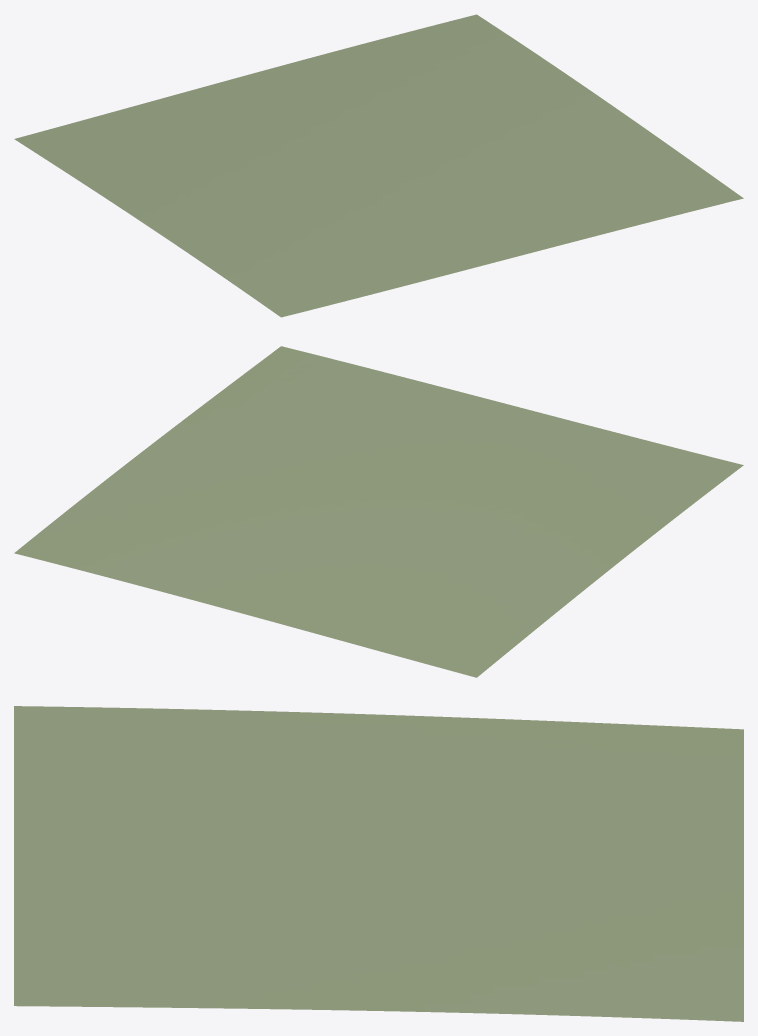
File: expanse-6-11.glb
3 views of the same model, one above another, from view 1: azimuth 30°, elevation 25°; view 2: azimuth 150°, elevation 25°; view 3: azimuth 270°, elevation 25° (orthographic). The views are drawn at different scales.
Parts seen in each view (by area): view 1: expanse-6-11; view 2: expanse-6-11; view 3: expanse-6-11.
Part boxes in pixels (<box>): expanse-6-11: <box>14,14,743,317</box>; expanse-6-11: <box>14,346,743,677</box>; expanse-6-11: <box>14,706,743,1021</box>.
Bounding box in the file's own units: 256 × 12.28 × 256.
